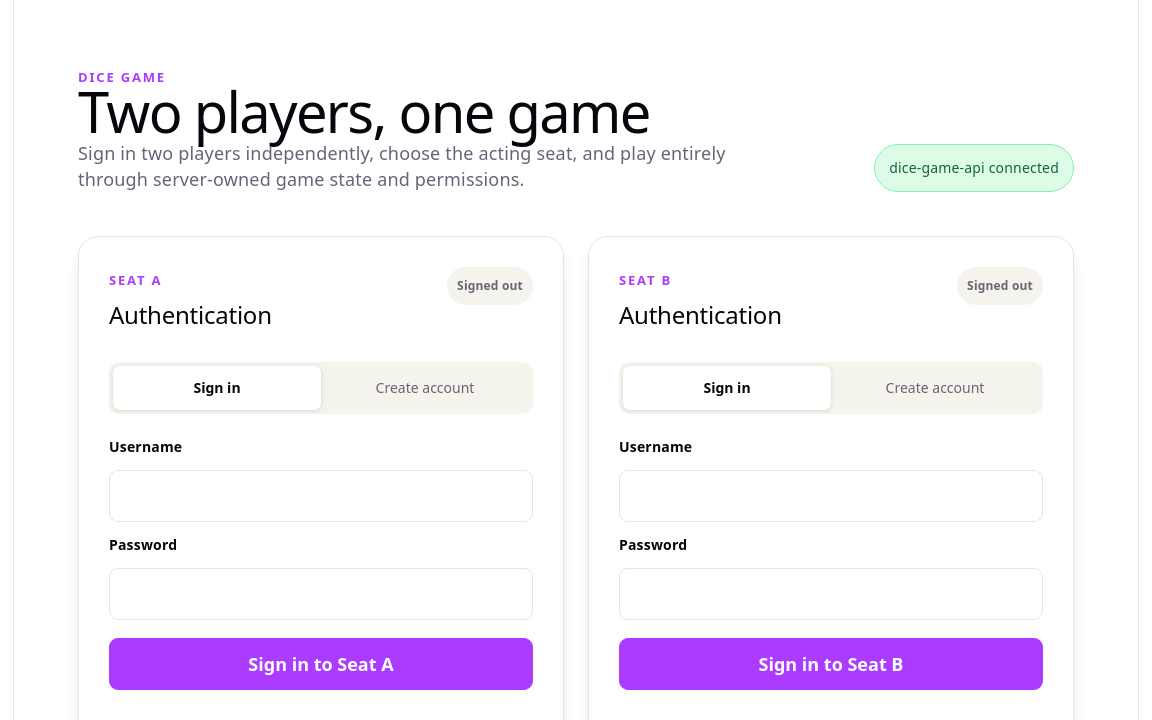
Scenario: App › never writes authenticated sessions to browser storage
Type "SeatAlpha" into the 1st field labelled "Username" at (321, 496), box [109, 470, 533, 522]
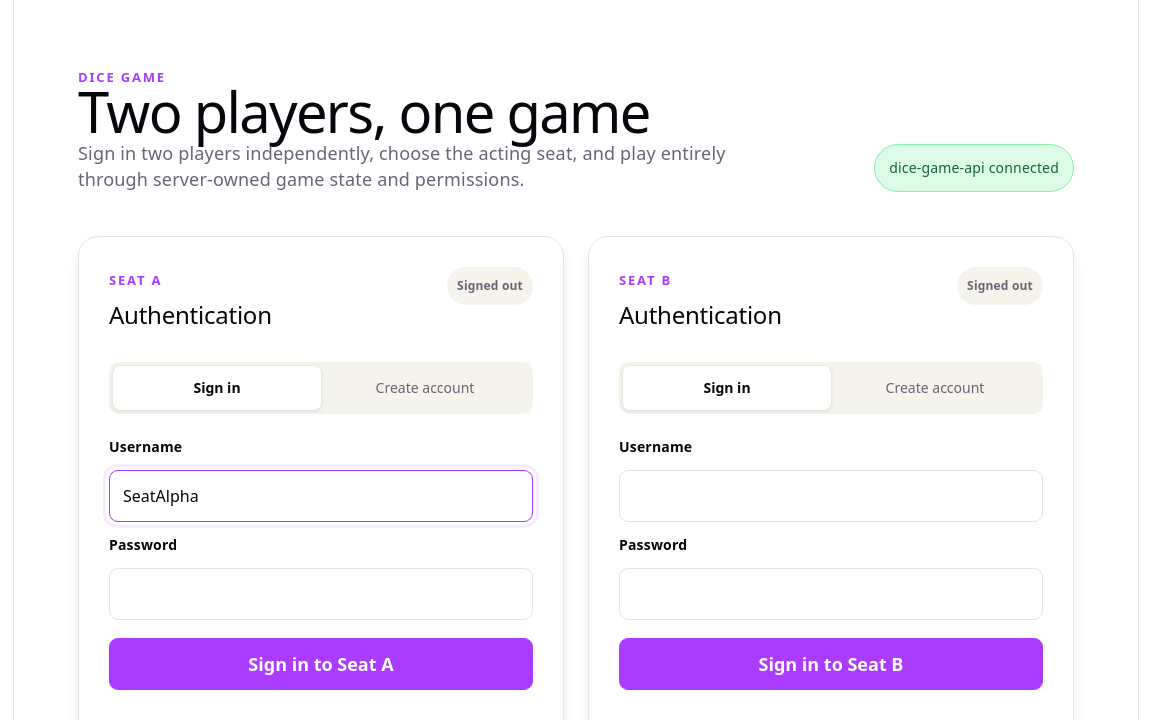
Type "private password" into the 1st password field labelled "Password" at (321, 594), box [109, 568, 533, 620]
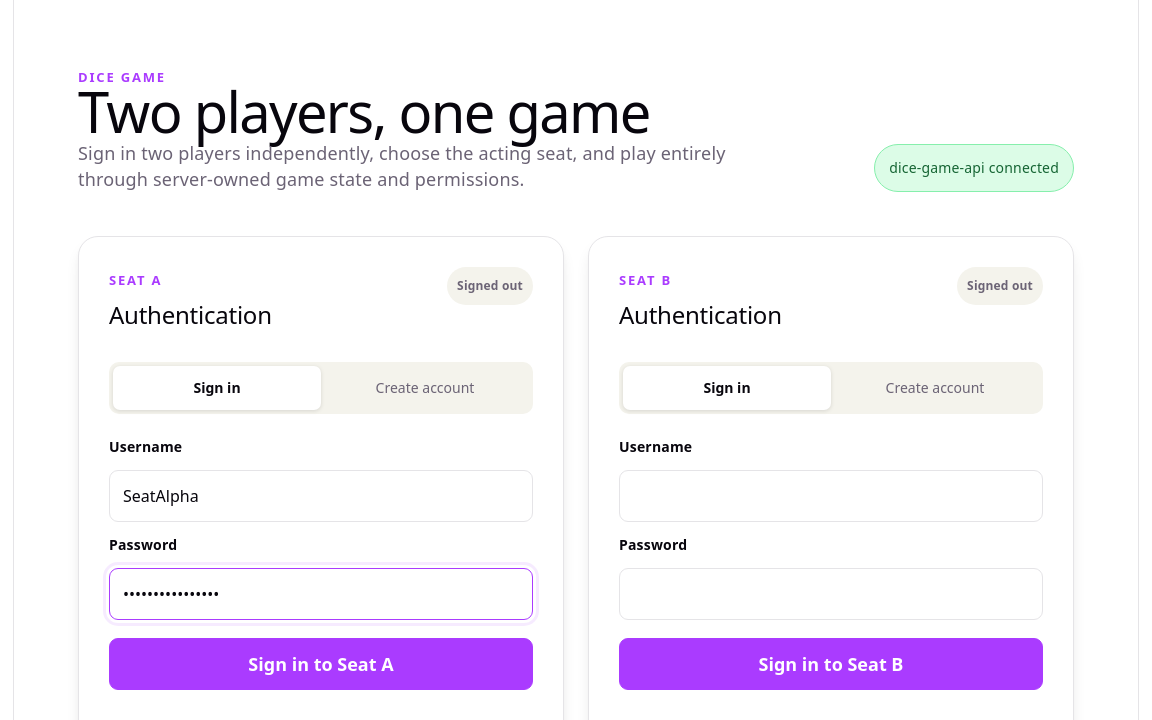
Click the button "Sign in to Seat A" at (321, 664), box [109, 638, 533, 690]
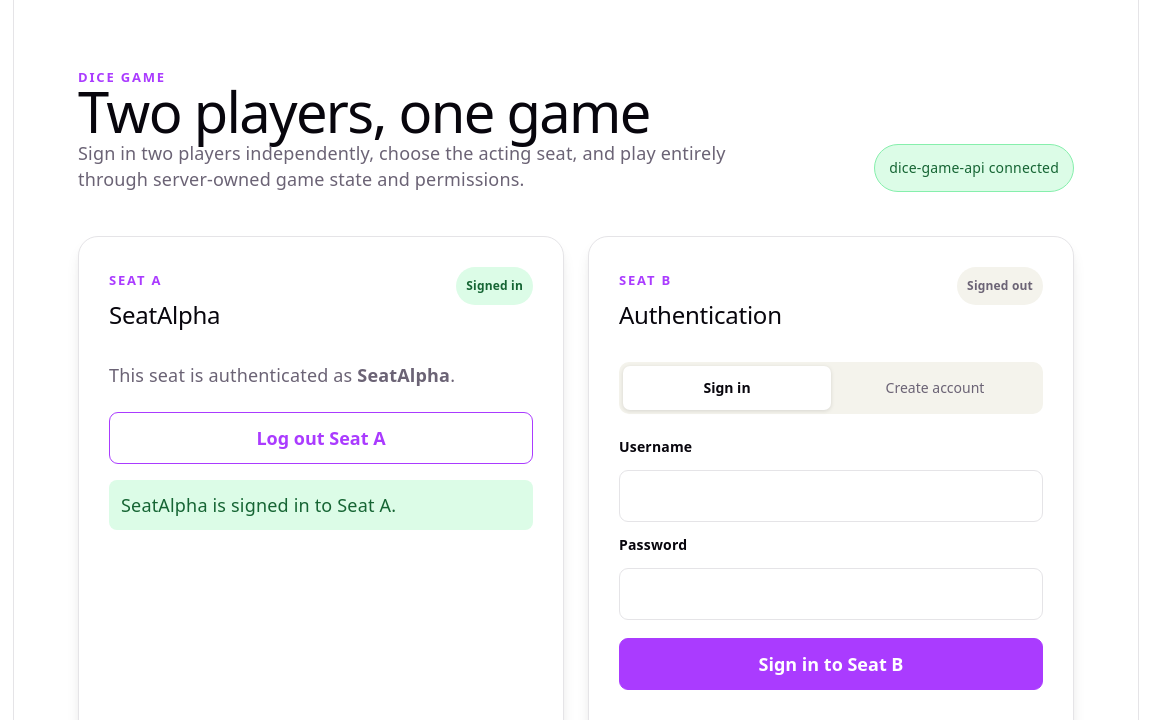
Now the text "This seat is authenticated as SeatAlpha." is shown, box [109, 363, 455, 387]
